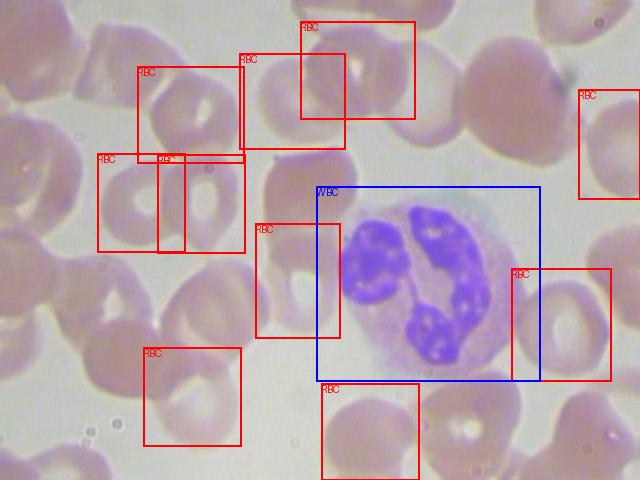RBC: (511, 268, 611, 381), (300, 21, 415, 119), (137, 66, 244, 163), (239, 53, 345, 149), (255, 223, 340, 338), (143, 347, 241, 446), (321, 383, 419, 480), (157, 154, 245, 253), (97, 153, 185, 252), (578, 89, 640, 199)
WBC: (316, 186, 540, 381)
